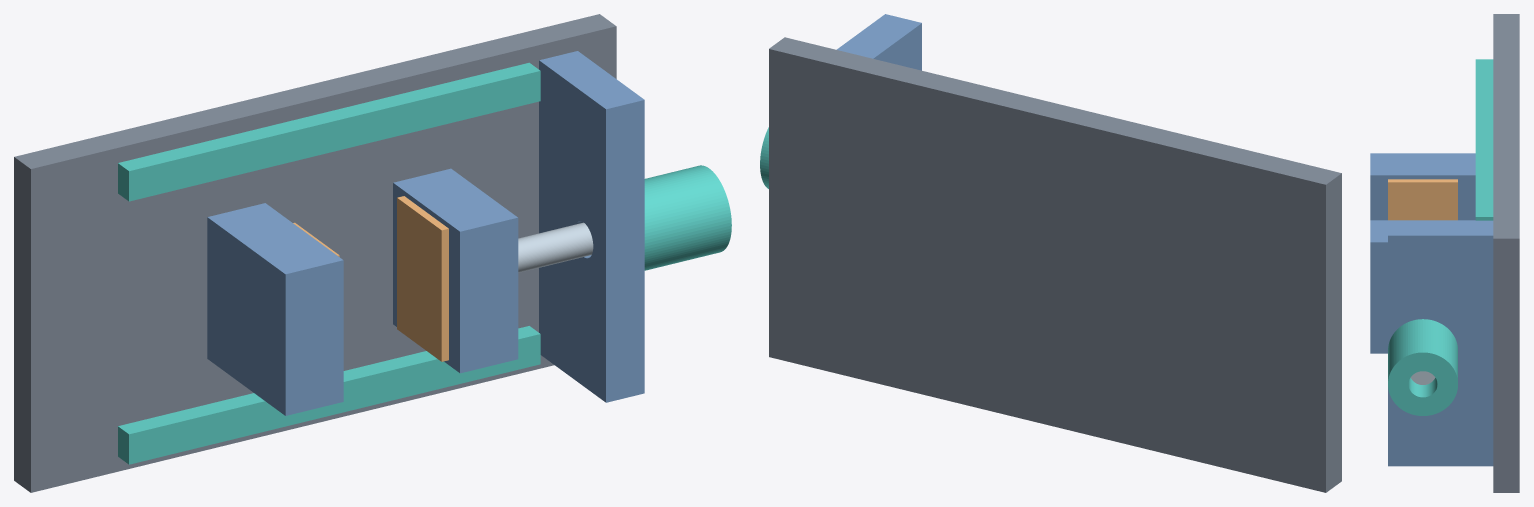
The model's file is assembly.glb.
The picture shows the model from 3 angles, left to right: view 1: azimuth 30°, elevation 25°; view 2: azimuth 150°, elevation 25°; view 3: azimuth 270°, elevation 25°; orthographic projection. The views are drawn at different scales.
Parts seen in each view (by area): view 1: base, actuator_support, fixed_jaw, rail_right, moving_jaw, rail_left, actuator_body, moving_pad, rod; view 2: base, actuator_support; view 3: actuator_support, base, actuator_body, fixed_jaw, rail_right, fixed_pad, moving_jaw, rod.
Part boxes in pixels (bbox=[...]): base: bbox=[14, 14, 616, 492]; actuator_support: bbox=[539, 51, 644, 402]; fixed_jaw: bbox=[207, 203, 343, 415]; rail_right: bbox=[118, 62, 540, 201]; moving_jaw: bbox=[393, 168, 518, 373]; rail_left: bbox=[118, 326, 540, 464]; actuator_body: bbox=[644, 165, 731, 270]; moving_pad: bbox=[397, 196, 448, 361]; rod: bbox=[518, 222, 593, 272]; base: bbox=[769, 37, 1341, 492]; actuator_support: bbox=[836, 14, 921, 70]; actuator_support: bbox=[1388, 220, 1493, 466]; base: bbox=[1493, 14, 1519, 492]; actuator_body: bbox=[1388, 319, 1457, 415]; fixed_jaw: bbox=[1370, 153, 1475, 220]; rail_right: bbox=[1475, 59, 1493, 220]; fixed_pad: bbox=[1388, 179, 1457, 220]; moving_jaw: bbox=[1370, 220, 1475, 353]; rod: bbox=[1411, 371, 1435, 384].
Bounding box in the file's own units: 0.1126 × 0.055 × 0.0292.
